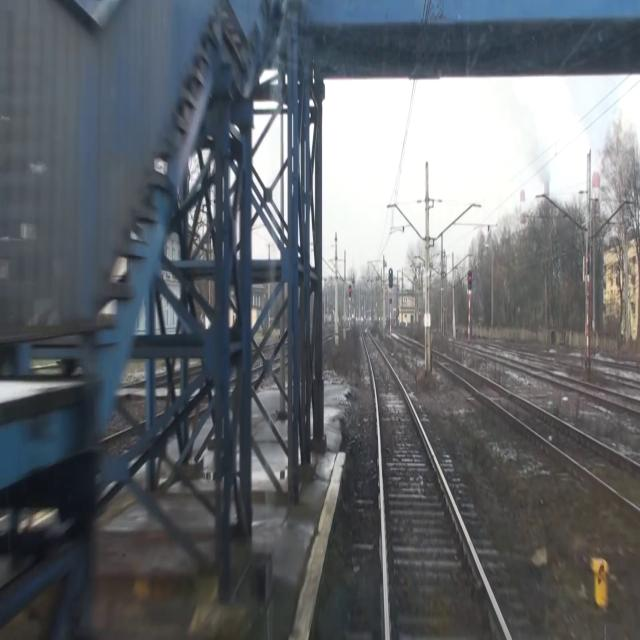rail-track: (363, 325, 507, 639), (430, 351, 640, 504), (531, 369, 640, 409), (397, 336, 424, 350)
